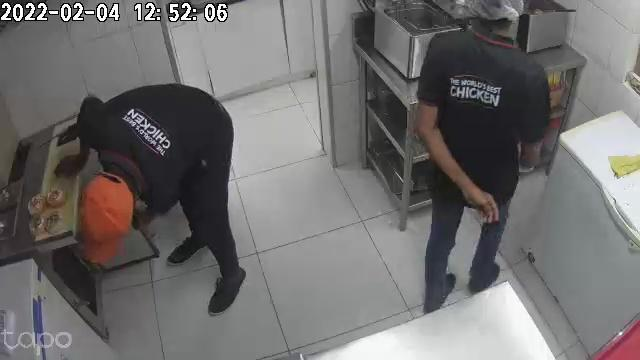no_gloves: (455, 176, 500, 223)
